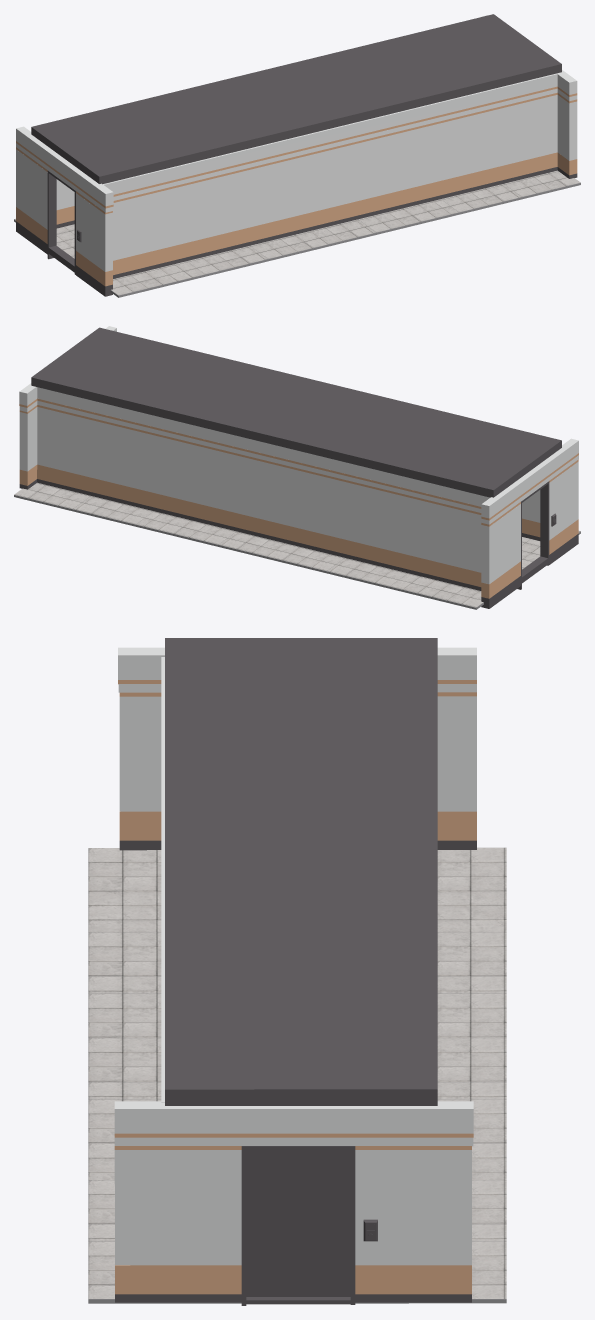
Rendered from scp_room_5.glb.
The picture shows the model from 3 angles, top to bottom: view 1: azimuth 30°, elevation 25°; view 2: azimuth 150°, elevation 25°; view 3: azimuth 270°, elevation 25°; orthographic projection. The views are drawn at different scales.
Parts seen in each view (by area): view 1: Object_8, Object_5, Object_9, Object_7, Object_3, Object_6, Object_4; view 2: Object_8, Object_5, Object_9, Object_7, Object_3, Object_6, Object_4; view 3: Object_5, Object_8, Object_7, Object_3, Object_9, Object_4, Object_6.
Part boxes in pixels (box(x1,y1,x2,y2)): Object_8: box(16, 15, 577, 271); Object_5: box(31, 14, 561, 272); Object_9: box(16, 86, 577, 286); Object_7: box(14, 170, 580, 295); Object_3: box(16, 167, 577, 296); Object_6: box(14, 182, 580, 297); Object_4: box(47, 171, 75, 274); Object_8: box(19, 326, 578, 584); Object_5: box(31, 327, 561, 583); Object_9: box(19, 398, 578, 598); Object_7: box(14, 482, 580, 607); Object_3: box(19, 479, 578, 608); Object_6: box(14, 495, 580, 609); Object_4: box(517, 481, 549, 589); Object_5: box(165, 638, 437, 1304); Object_8: box(114, 647, 476, 1265); Object_7: box(88, 847, 506, 1298); Object_3: box(115, 840, 476, 1302); Object_9: box(114, 680, 476, 1294); Object_4: box(241, 1146, 355, 1305); Object_6: box(88, 849, 506, 1303).
Size of the model in its own units: 48.26 by 11.1 by 18.4.
Materials: 7 (1 with a texture image).
